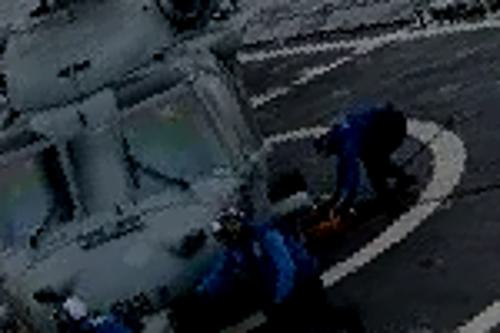Apron: (68, 114, 408, 281)
